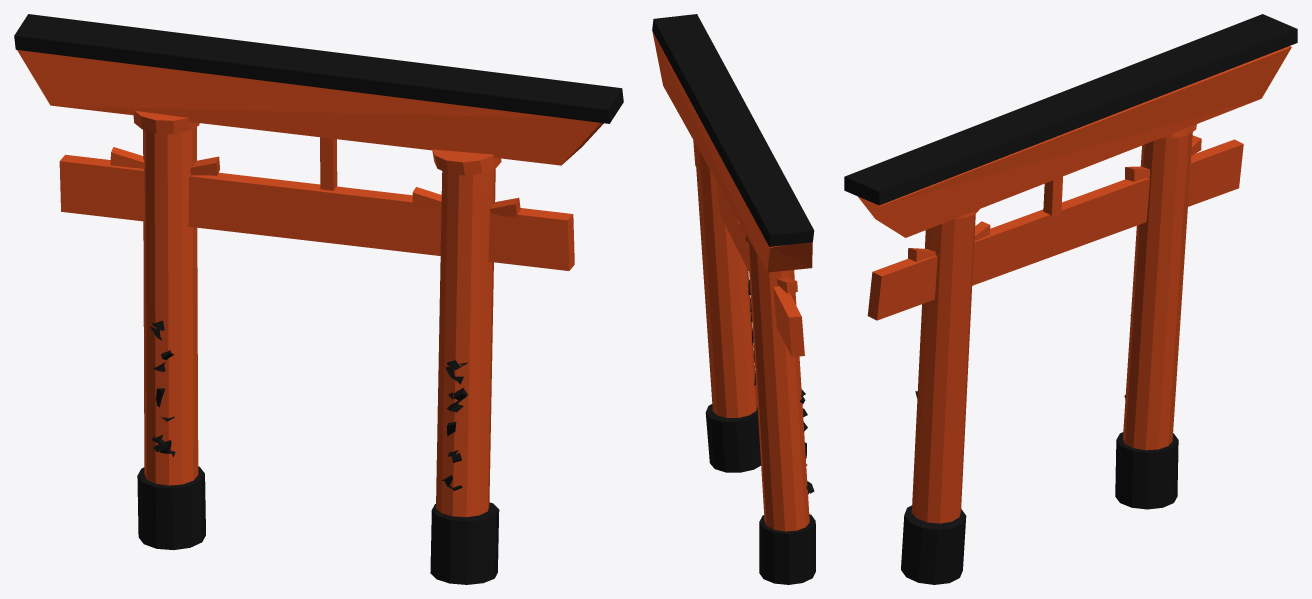
The picture shows the model from 3 angles, left to right: view 1: azimuth 30°, elevation 25°; view 2: azimuth 150°, elevation 25°; view 3: azimuth 270°, elevation 25°; orthographic projection. The views are drawn at different scales.
Visible parts, largest first — view 1: node_MeshObject427122880-PolyPaper14; view 2: node_MeshObject427122880-PolyPaper14; view 3: node_MeshObject427122880-PolyPaper14.
Part boxes in pixels (box(x1,y1,x2,y2)): node_MeshObject427122880-PolyPaper14: box(14, 14, 623, 584); node_MeshObject427122880-PolyPaper14: box(652, 14, 815, 584); node_MeshObject427122880-PolyPaper14: box(844, 14, 1297, 584).
Bounding box in the file's own units: 0.3428 × 0.3919 × 0.3637.
